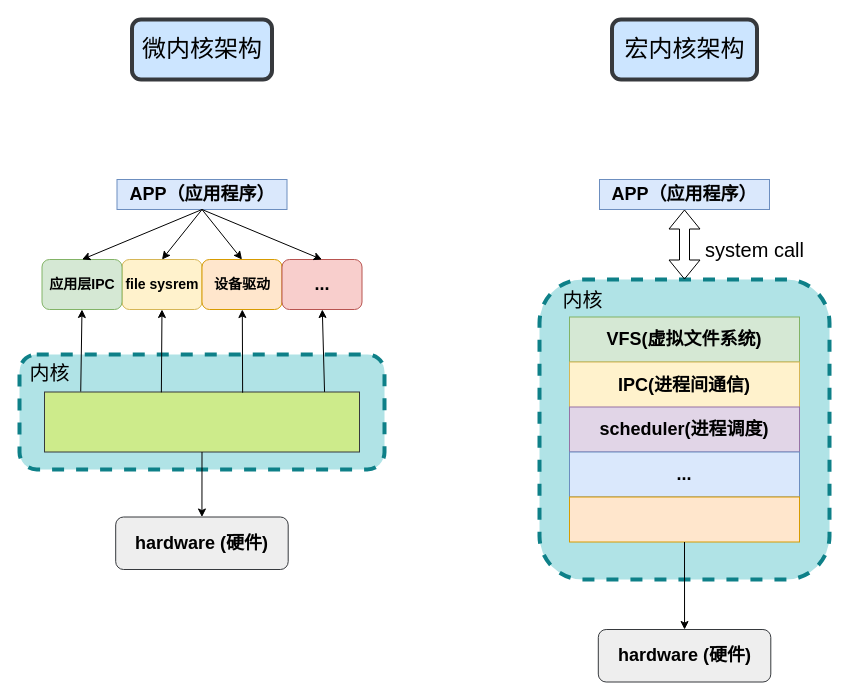
Some shapes in this 848 by 699 pixel diagram are drawn without their labels. The centre of each missing label's shape, as x and y in pixels:
Basic IPC/内存管理/进程调度: (x=202, y=421)
device driver(设备驱动): (x=684, y=519)
